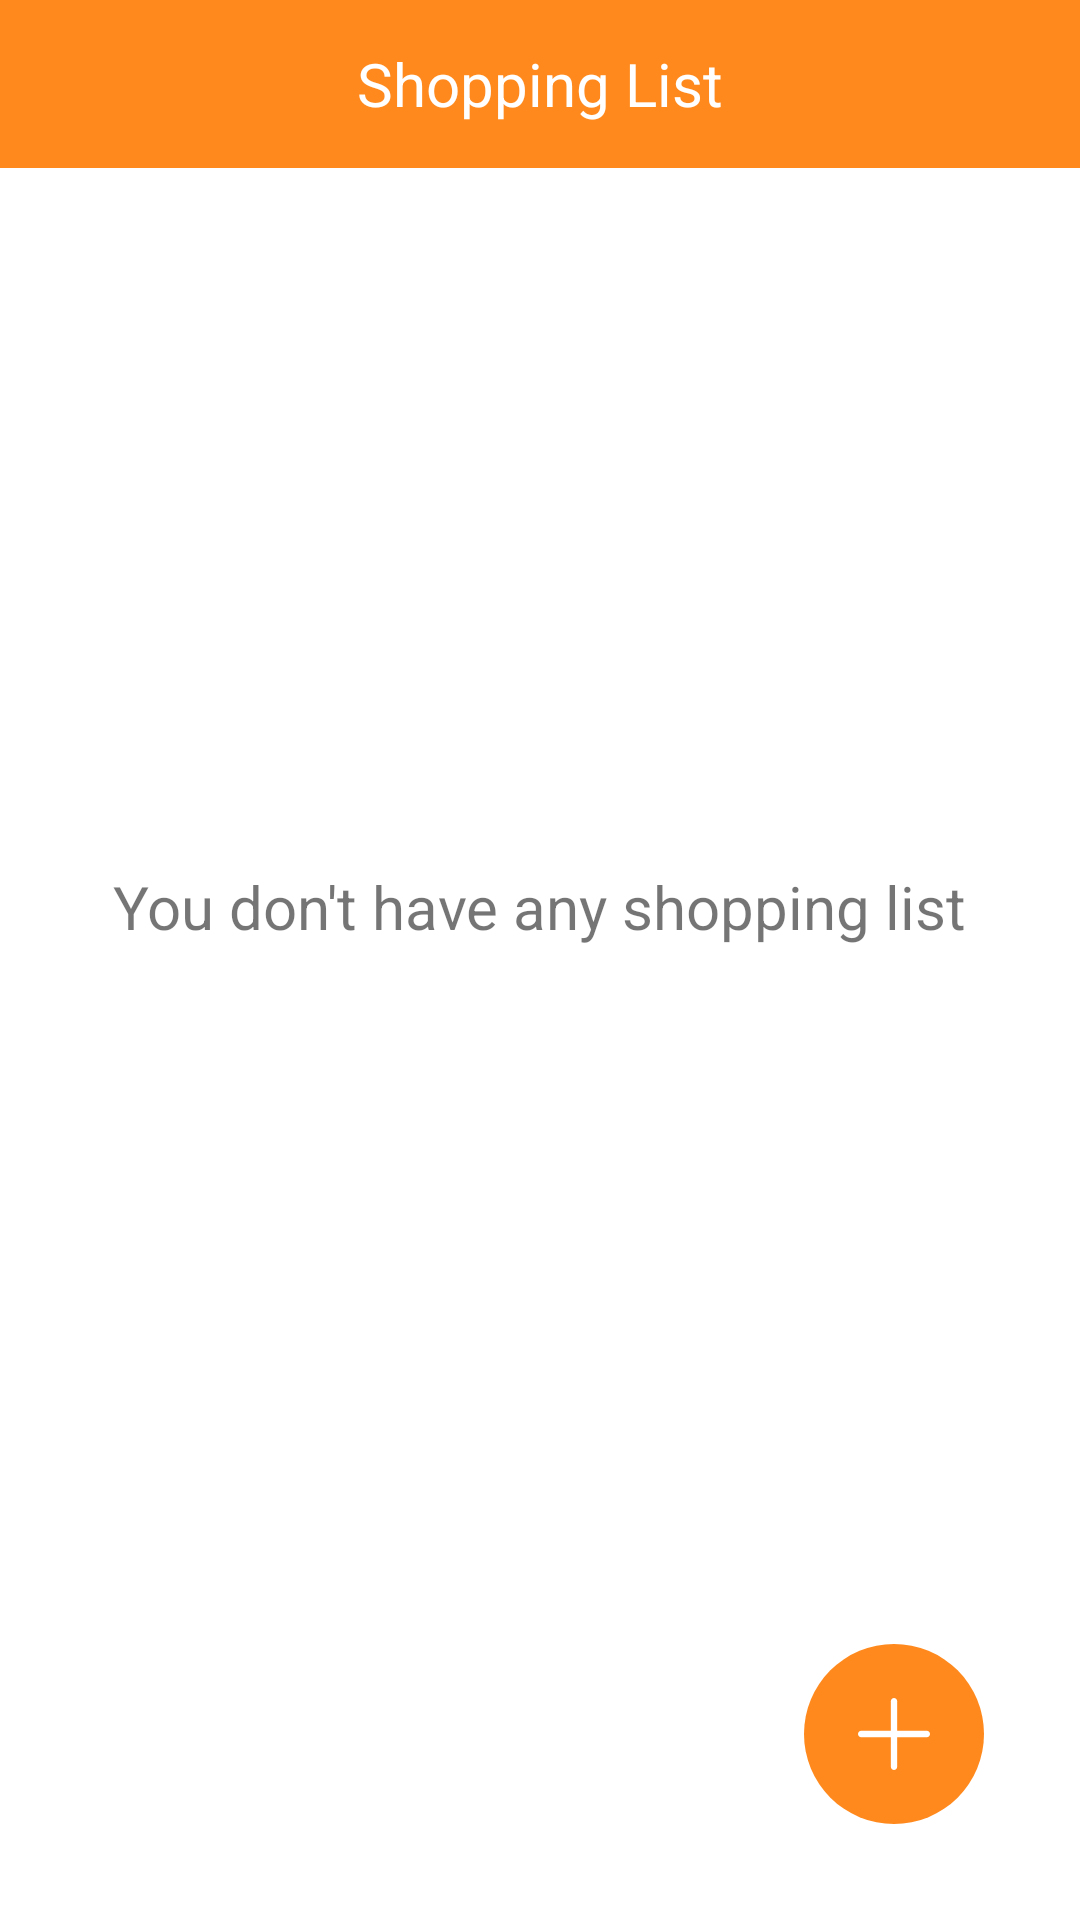

Icon click points for this 1080px x 1920px phone screenshot, format point (x, y):
add: point (894, 1734)
